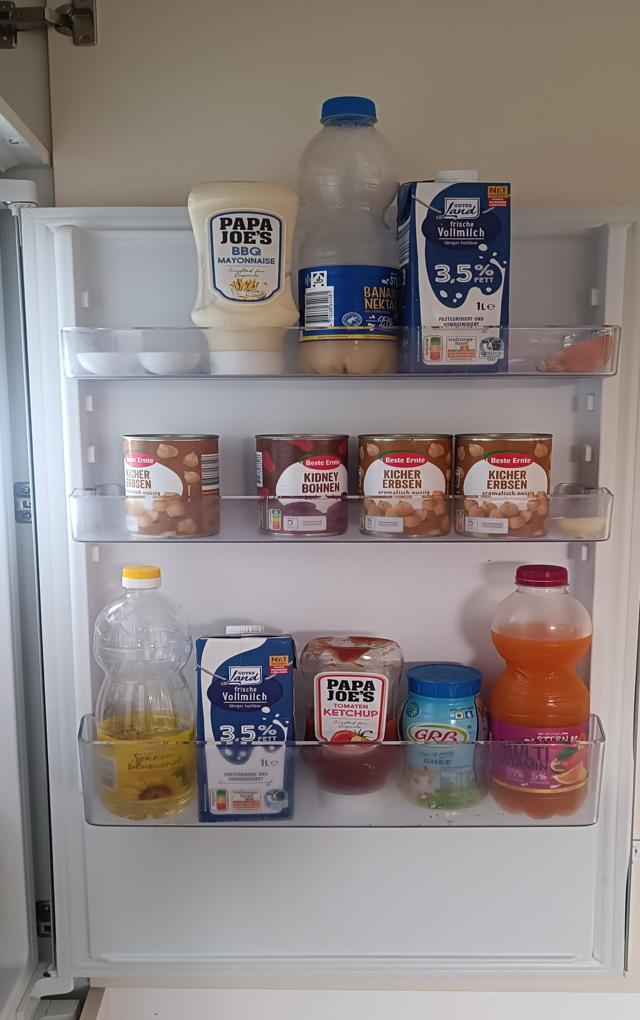bananajuice: (298, 92, 407, 380)
chickpeas: (122, 434, 222, 539), (456, 431, 553, 538), (357, 434, 452, 540)
ghee: (398, 664, 492, 811)
kidneybeans: (254, 434, 351, 536)
mayoniasie: (187, 177, 300, 376)
milk: (397, 168, 513, 379), (197, 622, 299, 826)
oil: (91, 565, 197, 821)
orangejuice: (483, 564, 595, 820)
tomatoketchup: (295, 636, 401, 824)
